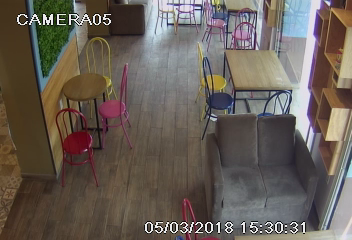libre: (50, 36, 135, 171), (192, 25, 295, 114), (196, 1, 264, 44)
